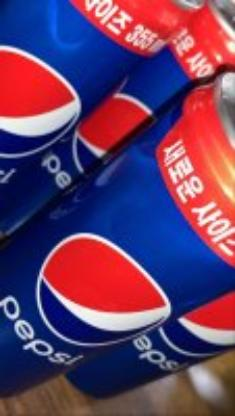Can: (0, 65, 235, 398), (1, 1, 202, 192)
